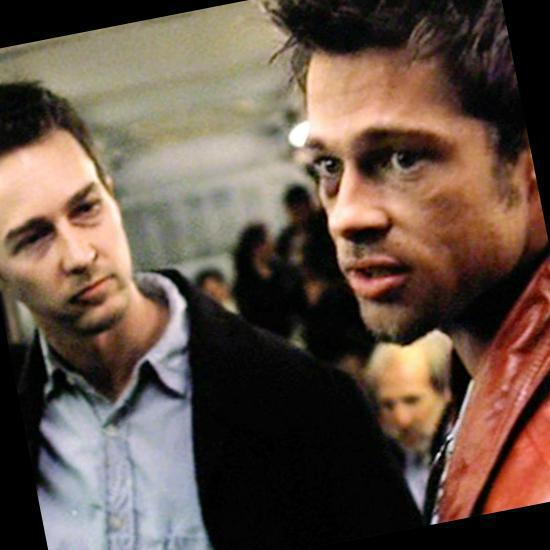Drunk: (304, 60, 490, 337), (0, 145, 130, 327)
